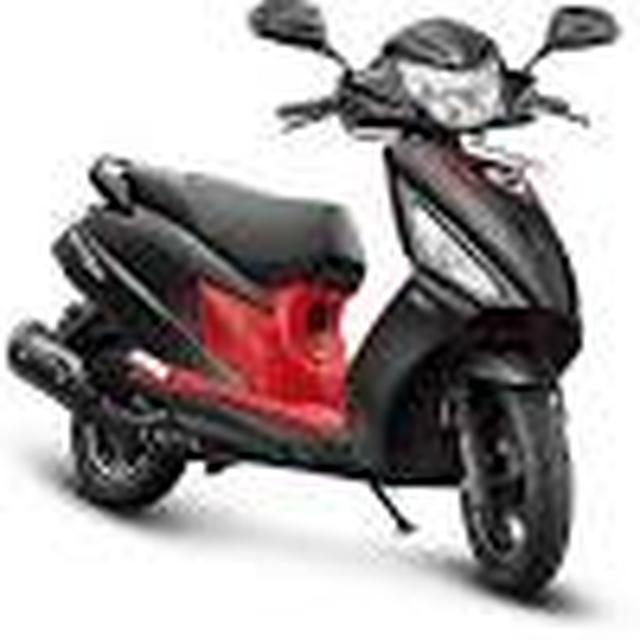motorcycle: (9, 0, 622, 603)
